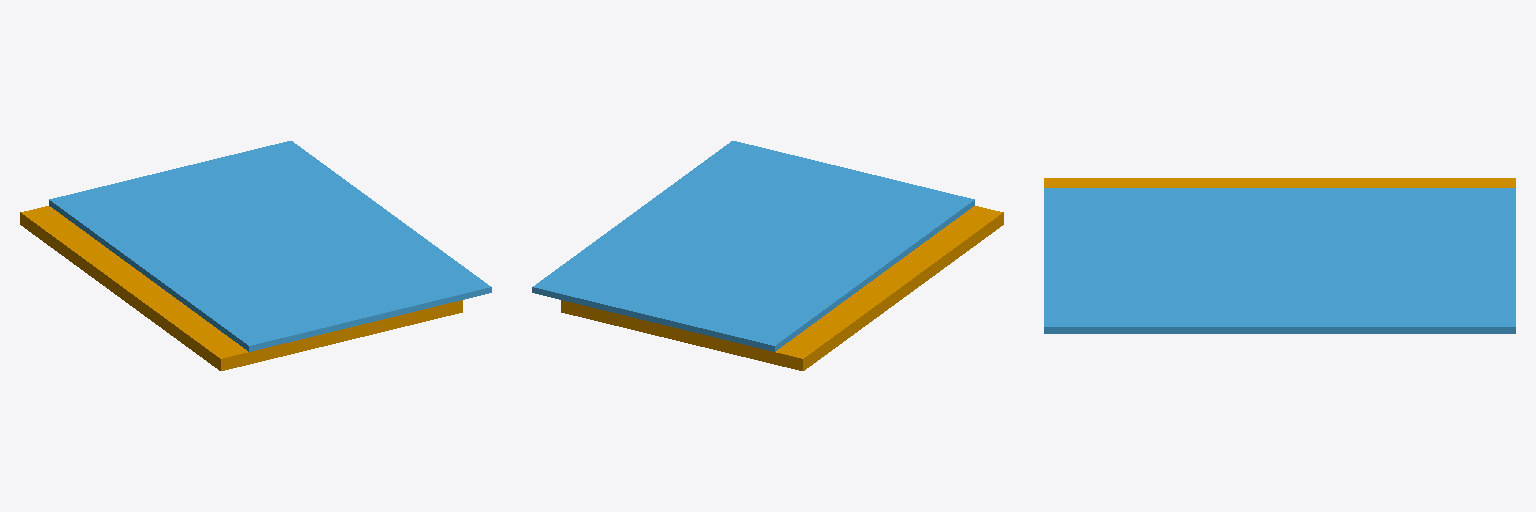
URDF robot description (laptop_buggy):
<?xml version="1.0"?>
<!-- laptop_spec.urdf with three bugs injected on purpose: the hinge 25 mm too far forward, its axis tilted 6 deg up out of the base's top plane (a wrong rpy), and the upper limit 90 deg. -->
<robot name="laptop_buggy">
  <!-- Frame: origin at the base's bottom centre, x toward the front edge, y left, z up.
       Sizes: 13" MacBook Pro spec, 304.1 x 212.4 mm; base 10.5 mm, lid 5 mm. -->
  <link name="base">
    <inertial><origin xyz="0 0 0.00525"/><mass value="0.9"/><inertia ixx="0.0034" iyy="0.0069" izz="0.0103" ixy="0" ixz="0" iyz="0"/></inertial>
    <visual><origin xyz="0 0 0.00525"/><geometry><box size="0.2124 0.3041 0.0105"/></geometry></visual>
    <collision><origin xyz="0 0 0.00525"/><geometry><box size="0.2124 0.3041 0.0105"/></geometry></collision>
  </link>
  <link name="lid">
    <inertial><origin xyz="0.1062 0 0.0025"/><mass value="0.47"/><inertia ixx="0.0036" iyy="0.0018" izz="0.0054" ixy="0" ixz="0" iyz="0"/></inertial>
    <visual><origin xyz="0.1062 0 0.0025"/><geometry><box size="0.2124 0.3041 0.005"/></geometry></visual>
    <collision><origin xyz="0.1062 0 0.0025"/><geometry><box size="0.2124 0.3041 0.005"/></geometry></collision>
  </link>
  <joint name="display_hinge" type="revolute">
    <parent link="base"/>
    <child link="lid"/>
    <origin xyz="-0.0812 0 0.0105" rpy="0 0 0"/>
    <axis xyz="0 -0.99452 0.10453"/>
    <limit lower="0" upper="1.5708" effort="2" velocity="2"/>
  </joint>
</robot>

--- Render facts (derived) ---
Views: 3 orthographic renders of the robot side by side, from view 1: azimuth 30°, elevation 25°; view 2: azimuth 150°, elevation 25°; view 3: azimuth 270°, elevation 25°.
Robot: laptop_buggy — 2 links, 1 joints (1 revolute); root link base; default pose: every joint at zero.
Visible links, largest first — view 1: lid, base; view 2: lid, base; view 3: lid, base.
Link boxes in pixels (<box>): lid: <box>49,141,491,351</box>; base: <box>20,206,462,370</box>; lid: <box>532,141,974,351</box>; base: <box>561,206,1003,370</box>; lid: <box>1044,188,1515,333</box>; base: <box>1044,178,1515,187</box>.
Bounding box of the posed robot: 0.2374 × 0.3041 × 0.0155 m (x, y, z).
Geometry: primitives only (box / cylinder / sphere), no mesh files.
